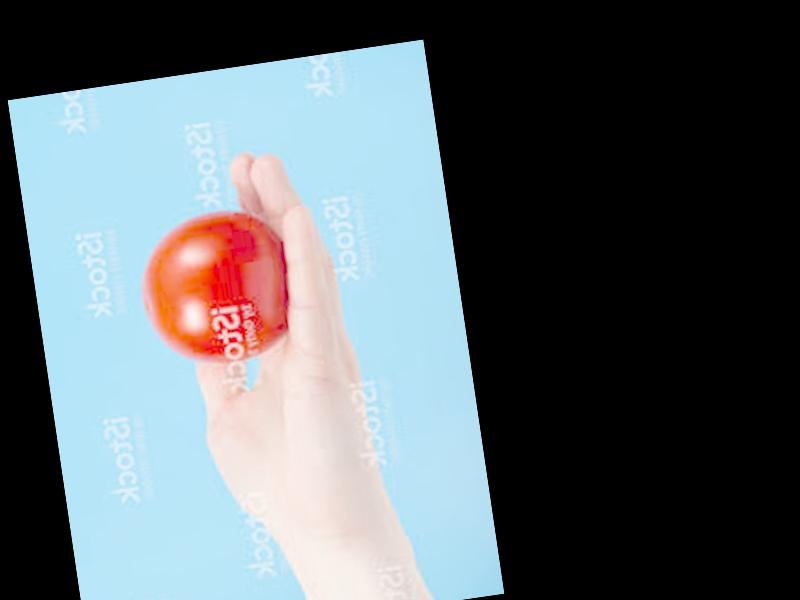Tomato: (135, 203, 297, 371)
